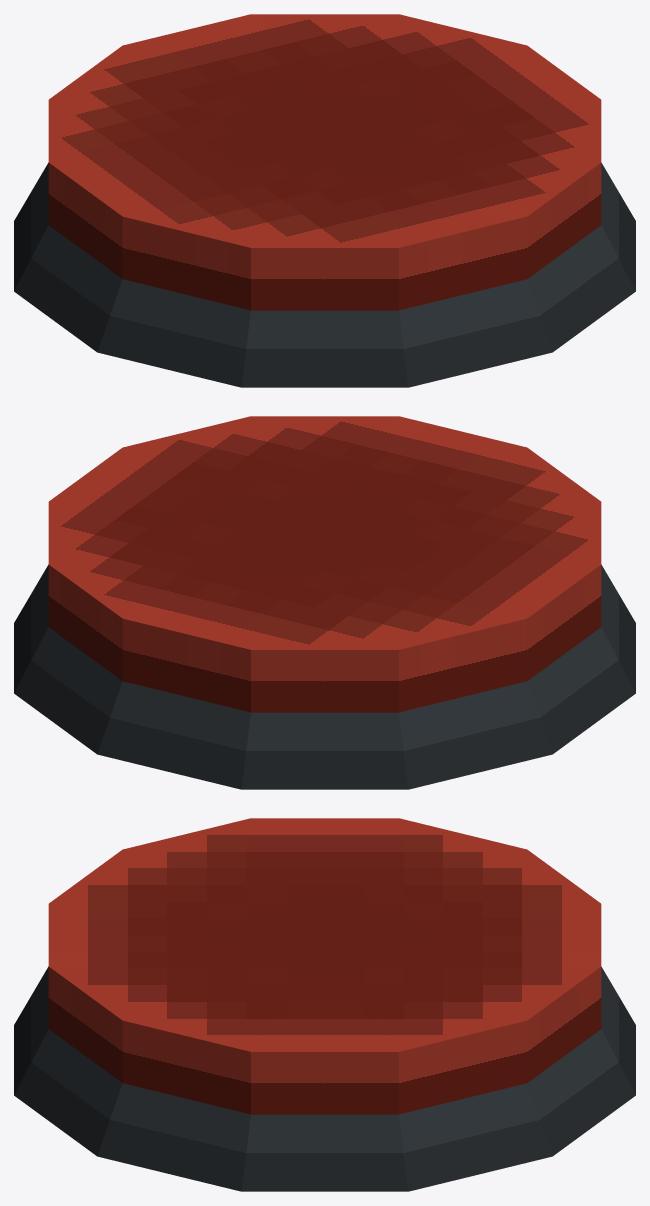
File: StartButton.fbx
The picture shows the model from 3 angles, top to bottom: view 1: azimuth 30°, elevation 25°; view 2: azimuth 150°, elevation 25°; view 3: azimuth 270°, elevation 25°; orthographic projection.
Visible parts, largest first — view 1: cylinder_1, cylinder; view 2: cylinder_1, cylinder; view 3: cylinder_1, cylinder.
Part boxes in pixels (x1,y1,x2,y2): cylinder_1: (48, 14, 601, 310); cylinder: (14, 162, 635, 387); cylinder_1: (48, 416, 601, 712); cylinder: (14, 564, 635, 789); cylinder_1: (48, 818, 601, 1114); cylinder: (14, 966, 635, 1191).
Size of the model in its own units: 56.25 by 12.5 by 56.25.
1 material, 1 textured.
